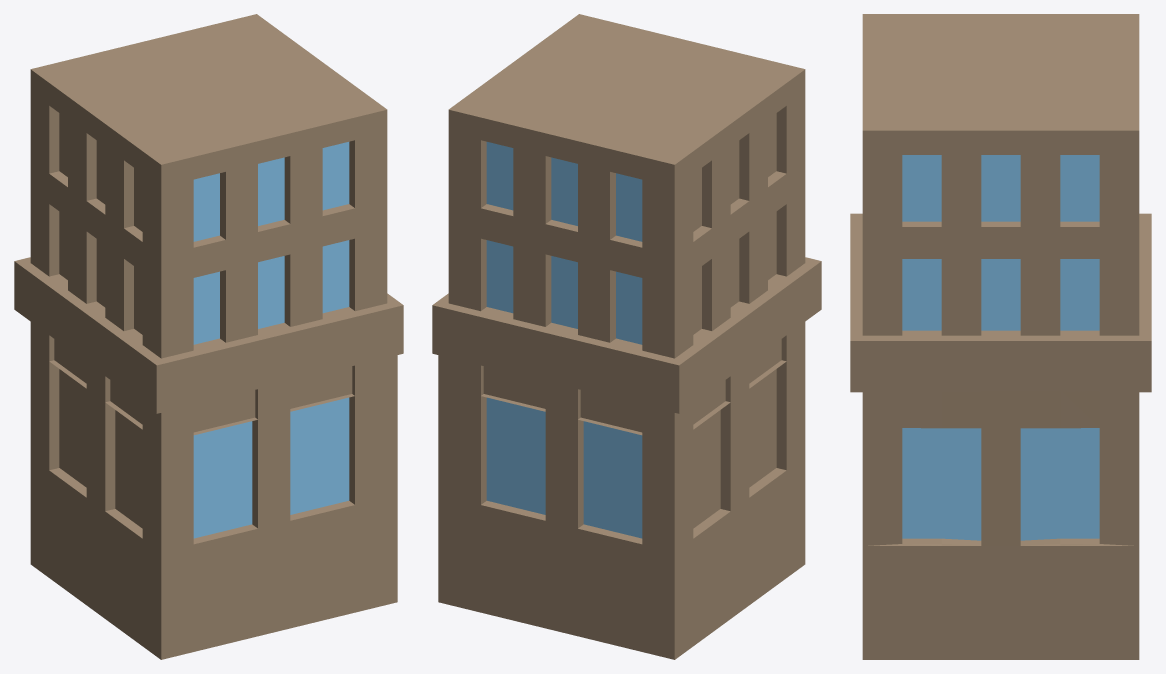
File: residential.glb
3 views of the same model, side by side, from view 1: azimuth 30°, elevation 25°; view 2: azimuth 150°, elevation 25°; view 3: azimuth 270°, elevation 25° (orthographic). The views are drawn at different scales.
Parts seen in each view (by area): view 1: Plane; view 2: Plane; view 3: Plane.
Part boxes in pixels (bbox=[...]): Plane: bbox=[14, 14, 403, 659]; Plane: bbox=[432, 14, 821, 659]; Plane: bbox=[850, 14, 1151, 659].
Bounding box in the file's own units: 12 × 23 × 12.
